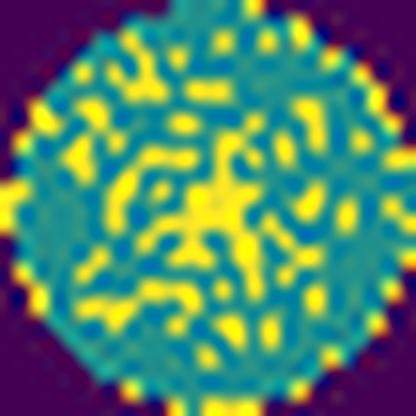Center: (136, 117, 272, 305)
